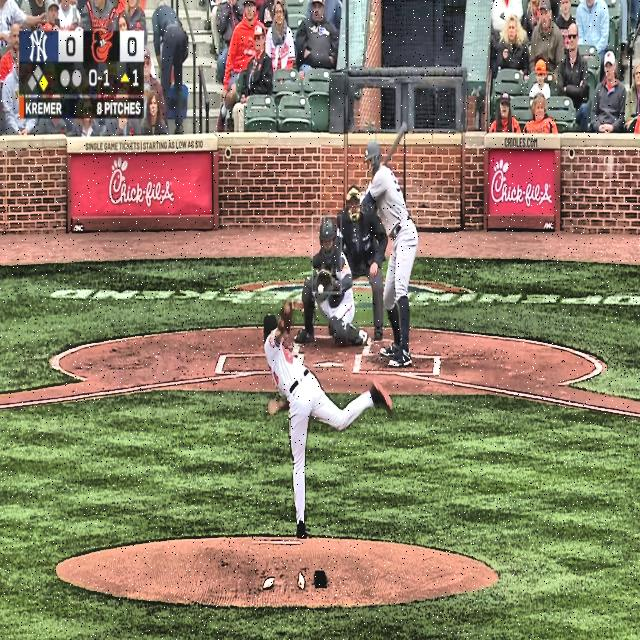baseball: (317, 282, 325, 296)
